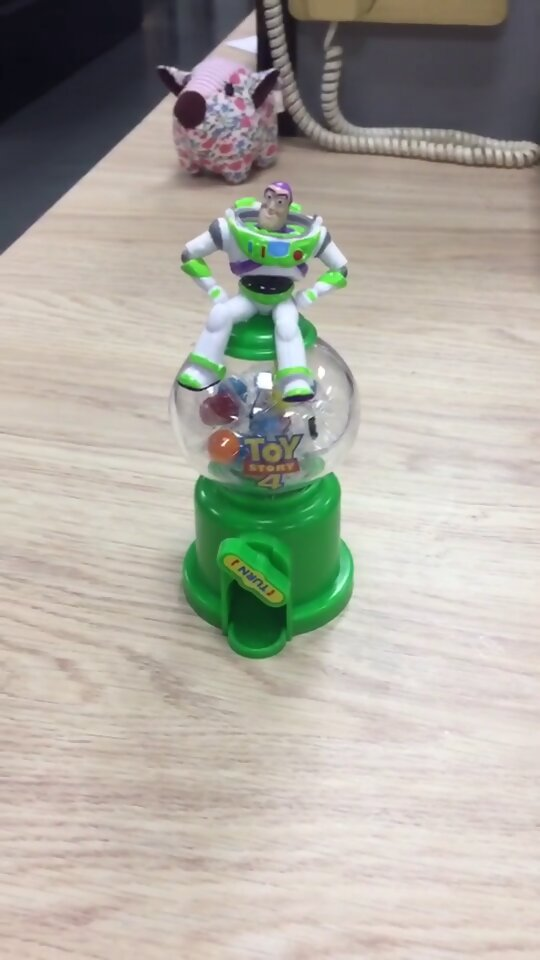buzz: (166, 180, 365, 661)
